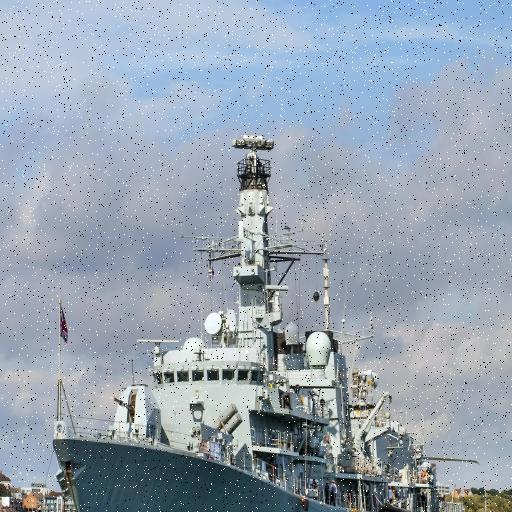Fragata: (26, 124, 448, 512)
